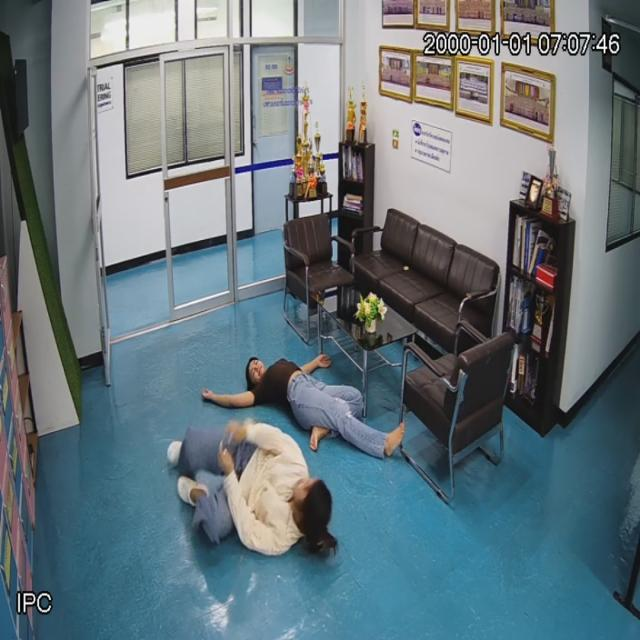fall: (173, 425, 331, 560), (244, 355, 364, 449)
